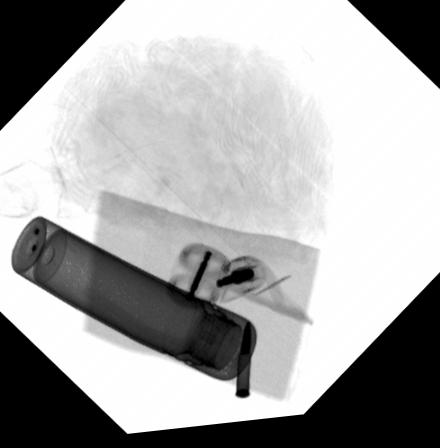Bullet: (233, 322, 252, 403)
